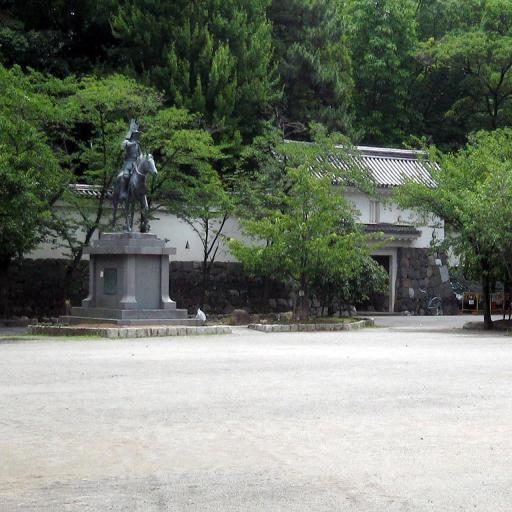horse: (112, 147, 159, 234)
